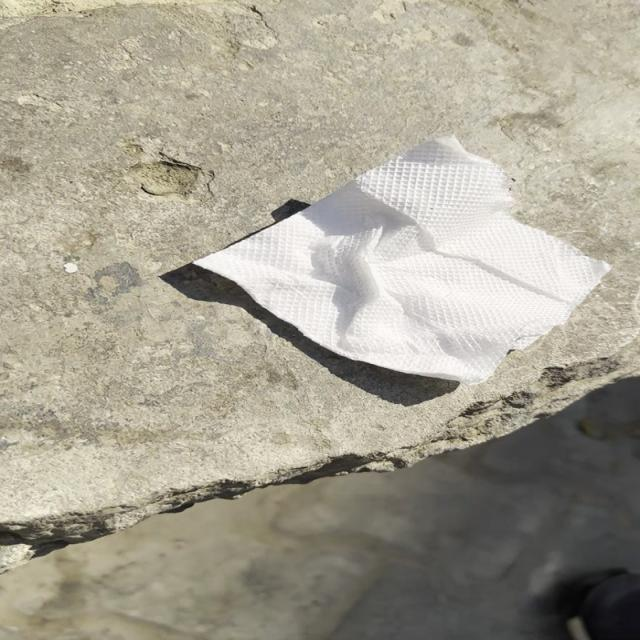tissue: (189, 130, 616, 391)
